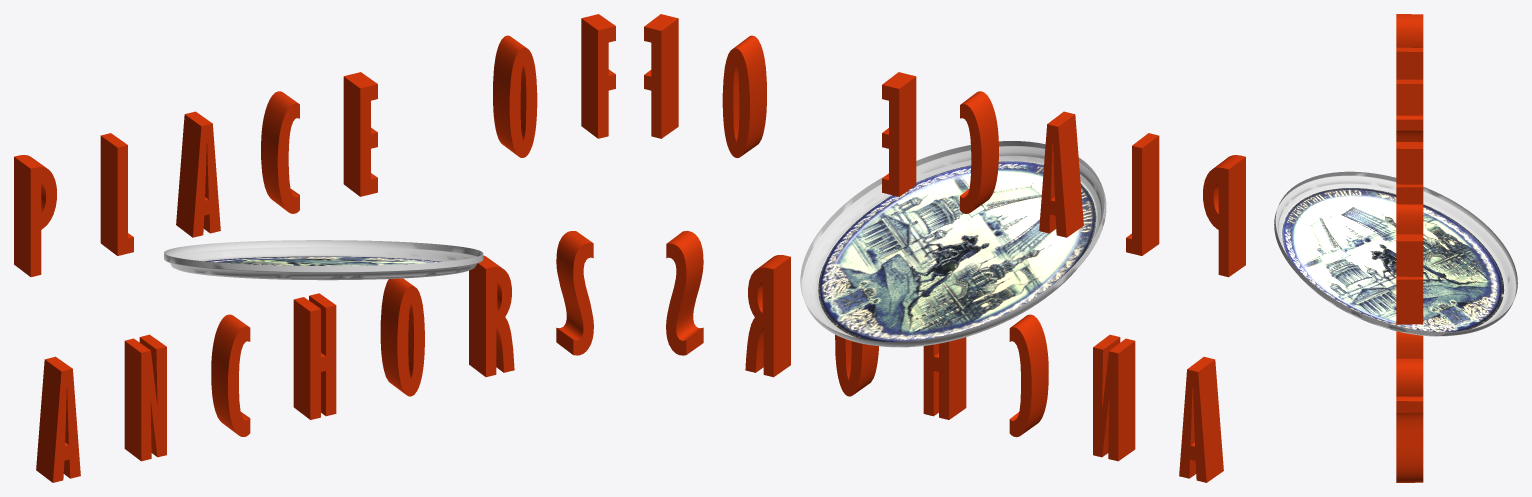
Rendered from Mirror3_ar_test_v10-v1.glb.
3 renders of one model, left to right at view 1: azimuth 30°, elevation 25°; view 2: azimuth 150°, elevation 25°; view 3: azimuth 270°, elevation 25°, orthographic. The views are drawn at different scales.
Parts seen in each view (by area): view 1: font1.001, Cylinder.001; view 2: font1.001, Cylinder.001; view 3: Cylinder.001, font1.001.
Part boxes in pixels (x1=…): font1.001: x1=14, y1=14, x2=615, y2=482; Cylinder.001: x1=164, y1=240, x2=483, y2=280; font1.001: x1=644, y1=14, x2=1245, y2=482; Cylinder.001: x1=800, y1=141, x2=1106, y2=347; Cylinder.001: x1=1274, y1=171, x2=1517, y2=336; font1.001: x1=1396, y1=14, x2=1423, y2=482.
Size of the model in its own units: 6.77 by 3.55 by 3.07.
3 materials, 1 textured.
